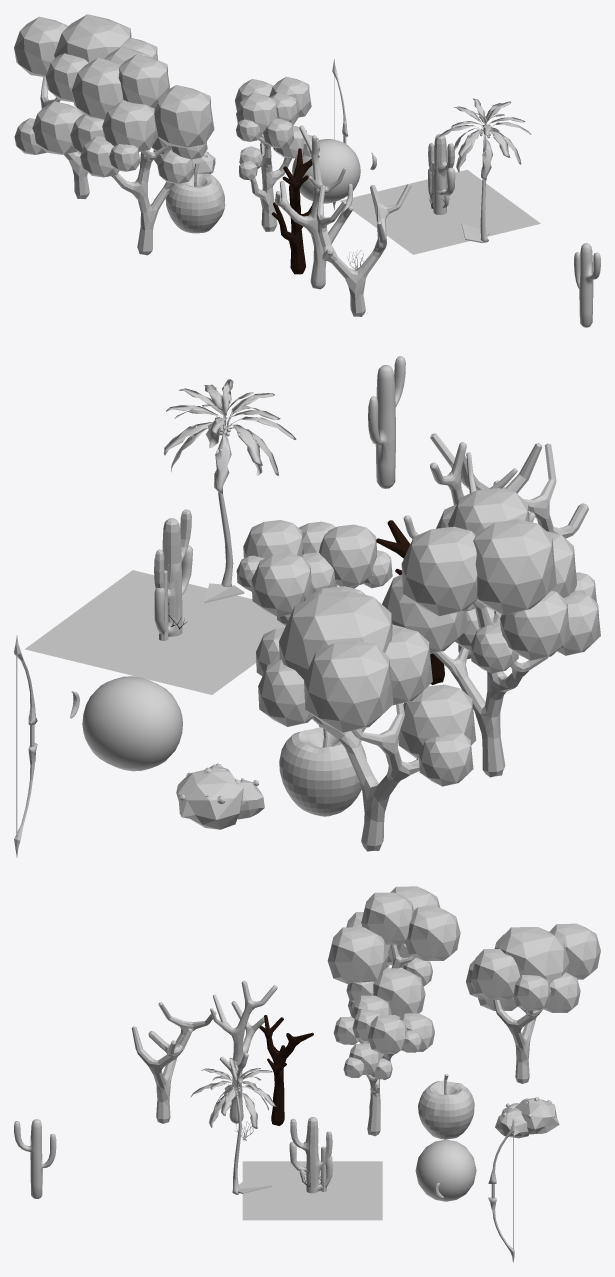
Rendered from DeadBush.obj.
The picture shows the model from 3 angles, top to bottom: view 1: azimuth 30°, elevation 25°; view 2: azimuth 150°, elevation 25°; view 3: azimuth 270°, elevation 25°; orthographic projection. The views are drawn at different scales.
Parts seen in each view (by area): view 1: Plane.004_Plane.003, Icosphere.005_Icosphere.000, deadtree2_Cube_Cube.001, Bouncing_apple.001_Cylinder.005, deadtree3_Cube.001_Cube.000, 10446_Palm_Tree_v1_max2010_iteration-2.001, Icosphere.007_Icosphere.036, Icosphere.009_Icosphere.027, Melon_low.001_Sphere.003, Icosphere.004_Icosphere.022, Icosphere_Icosphere.000, Icosphere.002_Icosphere.032 (+21 smaller); view 2: Plane.004_Plane.003, Melon_low.001_Sphere.003, Icosphere.002_Icosphere.032, Icosphere.009_Icosphere.027, Icosphere.007_Icosphere.036, Icosphere.001_Icosphere.019, Bouncing_apple.001_Cylinder.005, 10446_Palm_Tree_v1_max2010_iteration-2.001, Cube_Cube.005, Cube.001_Cube.004, Icosphere.004_Icosphere.034, Icosphere.008_Icosphere.026 (+24 smaller); view 3: Plane.004_Plane.003, Melon_low.001_Sphere.003, Icosphere.005_Icosphere.000, Icosphere.007_Icosphere.036, Bouncing_apple.001_Cylinder.005, Icosphere.001_Icosphere.019, deadtree2_Cube_Cube.001, deadtree3_Cube.001_Cube.000, 10446_Palm_Tree_v1_max2010_iteration-2.001, Icosphere_Icosphere.000, Icosphere.008_Icosphere.037, Icosphere.007_Icosphere.025 (+19 smaller).
Boxes of the visible parts, x1,y1,x2,y2 form: Plane.004_Plane.003: (340,169,540,254); Icosphere.005_Icosphere.000: (154,85,214,147); deadtree2_Cube_Cube.001: (316,184,411,316); Bouncing_apple.001_Cylinder.005: (165,163,225,233); deadtree3_Cube.001_Cube.000: (275,125,353,289); 10446_Palm_Tree_v1_max2010_iteration-2.001: (436,98,531,242); Icosphere.007_Icosphere.036: (54,14,131,62); Icosphere.009_Icosphere.027: (71,57,123,119); Melon_low.001_Sphere.003: (292,139,360,203); Icosphere.004_Icosphere.022: (102,100,157,151); Icosphere_Icosphere.000: (118,54,170,108); Icosphere.002_Icosphere.032: (14,16,68,77); Plane.004_Plane.003: (25,570,285,694); Melon_low.001_Sphere.003: (82,676,182,771); Icosphere.002_Icosphere.032: (304,640,393,732); Icosphere.009_Icosphere.027: (473,519,556,614); Icosphere.007_Icosphere.036: (279,591,392,679); Icosphere.001_Icosphere.019: (401,526,477,616); Bouncing_apple.001_Cylinder.005: (279,727,366,816); 10446_Palm_Tree_v1_max2010_iteration-2.001: (163,379,296,587); Cube_Cube.005: (312,703,419,851); Cube.001_Cube.004: (433,600,548,777); Icosphere.004_Icosphere.034: (398,684,476,758); Icosphere.008_Icosphere.026: (500,590,570,660); Plane.004_Plane.003: (242,1161,382,1220); Melon_low.001_Sphere.003: (415,1139,476,1201); Icosphere.005_Icosphere.000: (327,927,388,984); Icosphere.007_Icosphere.036: (497,927,569,997); Bouncing_apple.001_Cylinder.005: (418,1073,474,1139); Icosphere.001_Icosphere.019: (404,907,460,960); deadtree2_Cube_Cube.001: (131,1002,216,1123); deadtree3_Cube.001_Cube.000: (210,980,277,1123); 10446_Palm_Tree_v1_max2010_iteration-2.001: (190,1057,276,1194); Icosphere_Icosphere.000: (361,892,413,944); Icosphere.008_Icosphere.037: (471,949,520,999); Icosphere.007_Icosphere.025: (373,968,425,1017).
Bounding box in the file's own units: 13.85 × 8.94 × 19.24.
